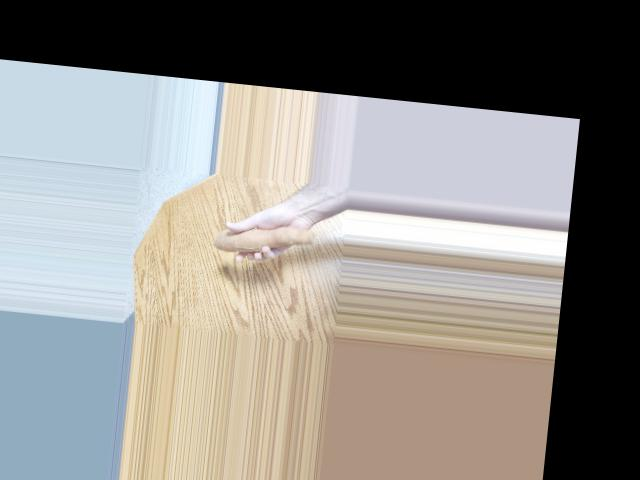sweet_potato: (211, 210, 326, 263)
